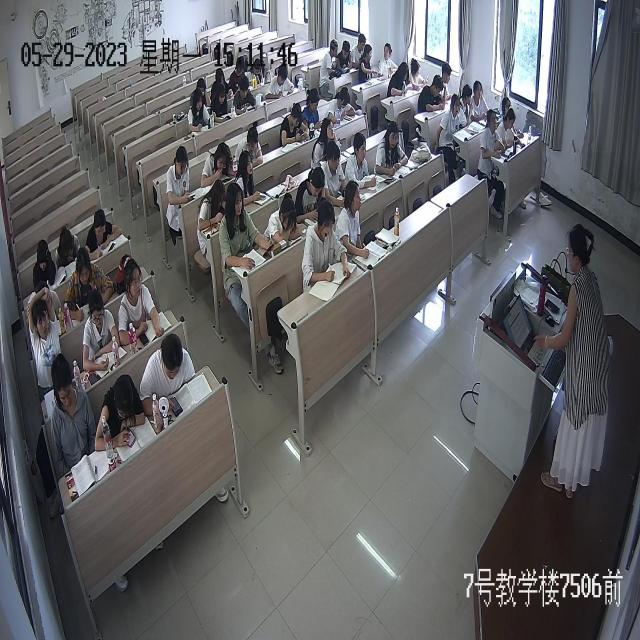distracted: (50, 355, 100, 469), (53, 226, 86, 271), (321, 37, 340, 82), (359, 44, 378, 82), (378, 43, 399, 75), (336, 39, 354, 74), (459, 84, 476, 121)
focused: (116, 253, 166, 340), (303, 196, 350, 286), (26, 290, 66, 394), (79, 290, 123, 374), (64, 250, 114, 313), (337, 179, 370, 258), (84, 207, 123, 258), (376, 120, 410, 176), (346, 131, 376, 192), (295, 164, 325, 224), (323, 140, 349, 206), (310, 118, 345, 165), (196, 179, 228, 230), (237, 150, 263, 207), (437, 92, 463, 145), (235, 122, 264, 168), (481, 109, 505, 160), (418, 74, 448, 114), (33, 238, 56, 290), (263, 64, 296, 100), (266, 64, 294, 102), (188, 89, 212, 132), (386, 62, 414, 98), (234, 73, 258, 113), (471, 79, 493, 122), (498, 106, 520, 146), (228, 56, 250, 93), (247, 57, 269, 88), (439, 61, 454, 100), (214, 69, 233, 99), (352, 33, 368, 67), (502, 96, 515, 120)
sleep: (264, 192, 303, 244)
using_phone: (141, 330, 196, 423), (220, 180, 273, 274), (94, 376, 148, 454), (167, 142, 196, 212), (201, 142, 236, 186), (280, 102, 310, 146), (326, 86, 356, 124), (209, 83, 235, 122), (304, 87, 326, 133), (408, 56, 430, 95)
